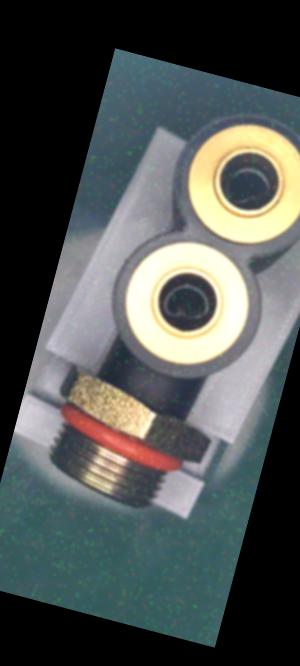off-centered: (154, 273, 221, 333), (219, 155, 280, 215)
white mark: (130, 386, 146, 404)
